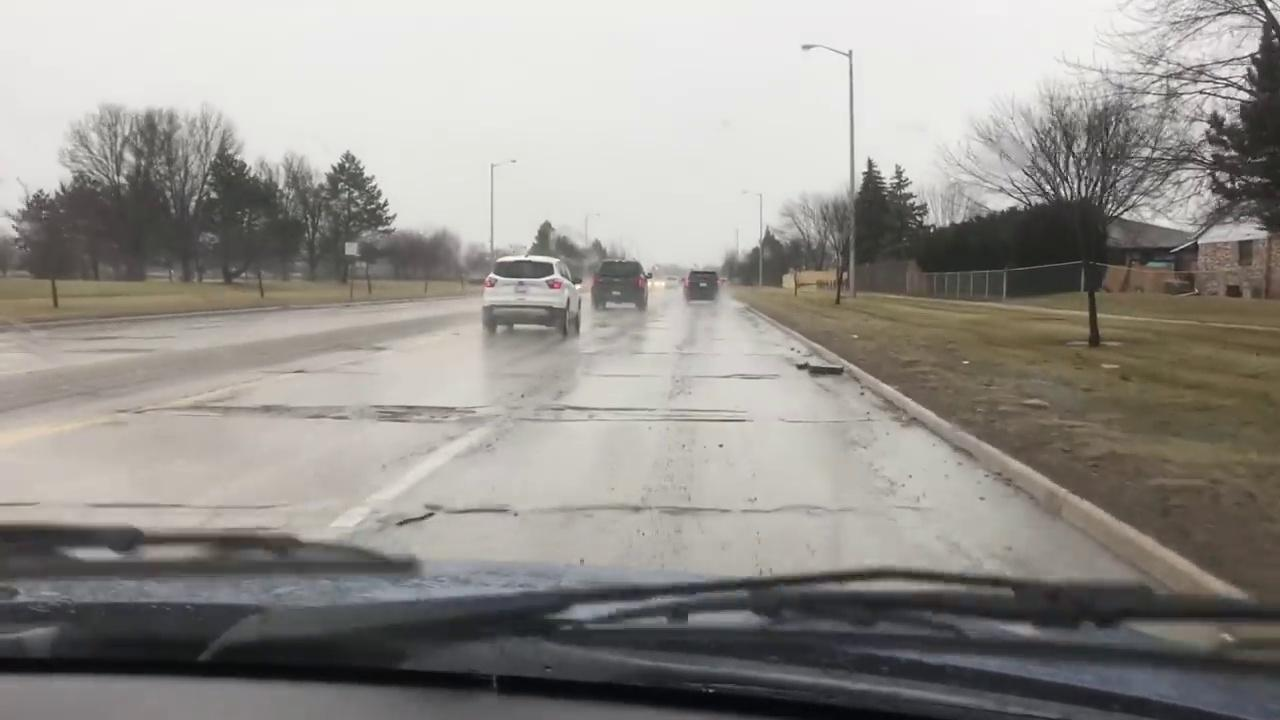pothole: (194, 403, 478, 424), (543, 403, 663, 413)
